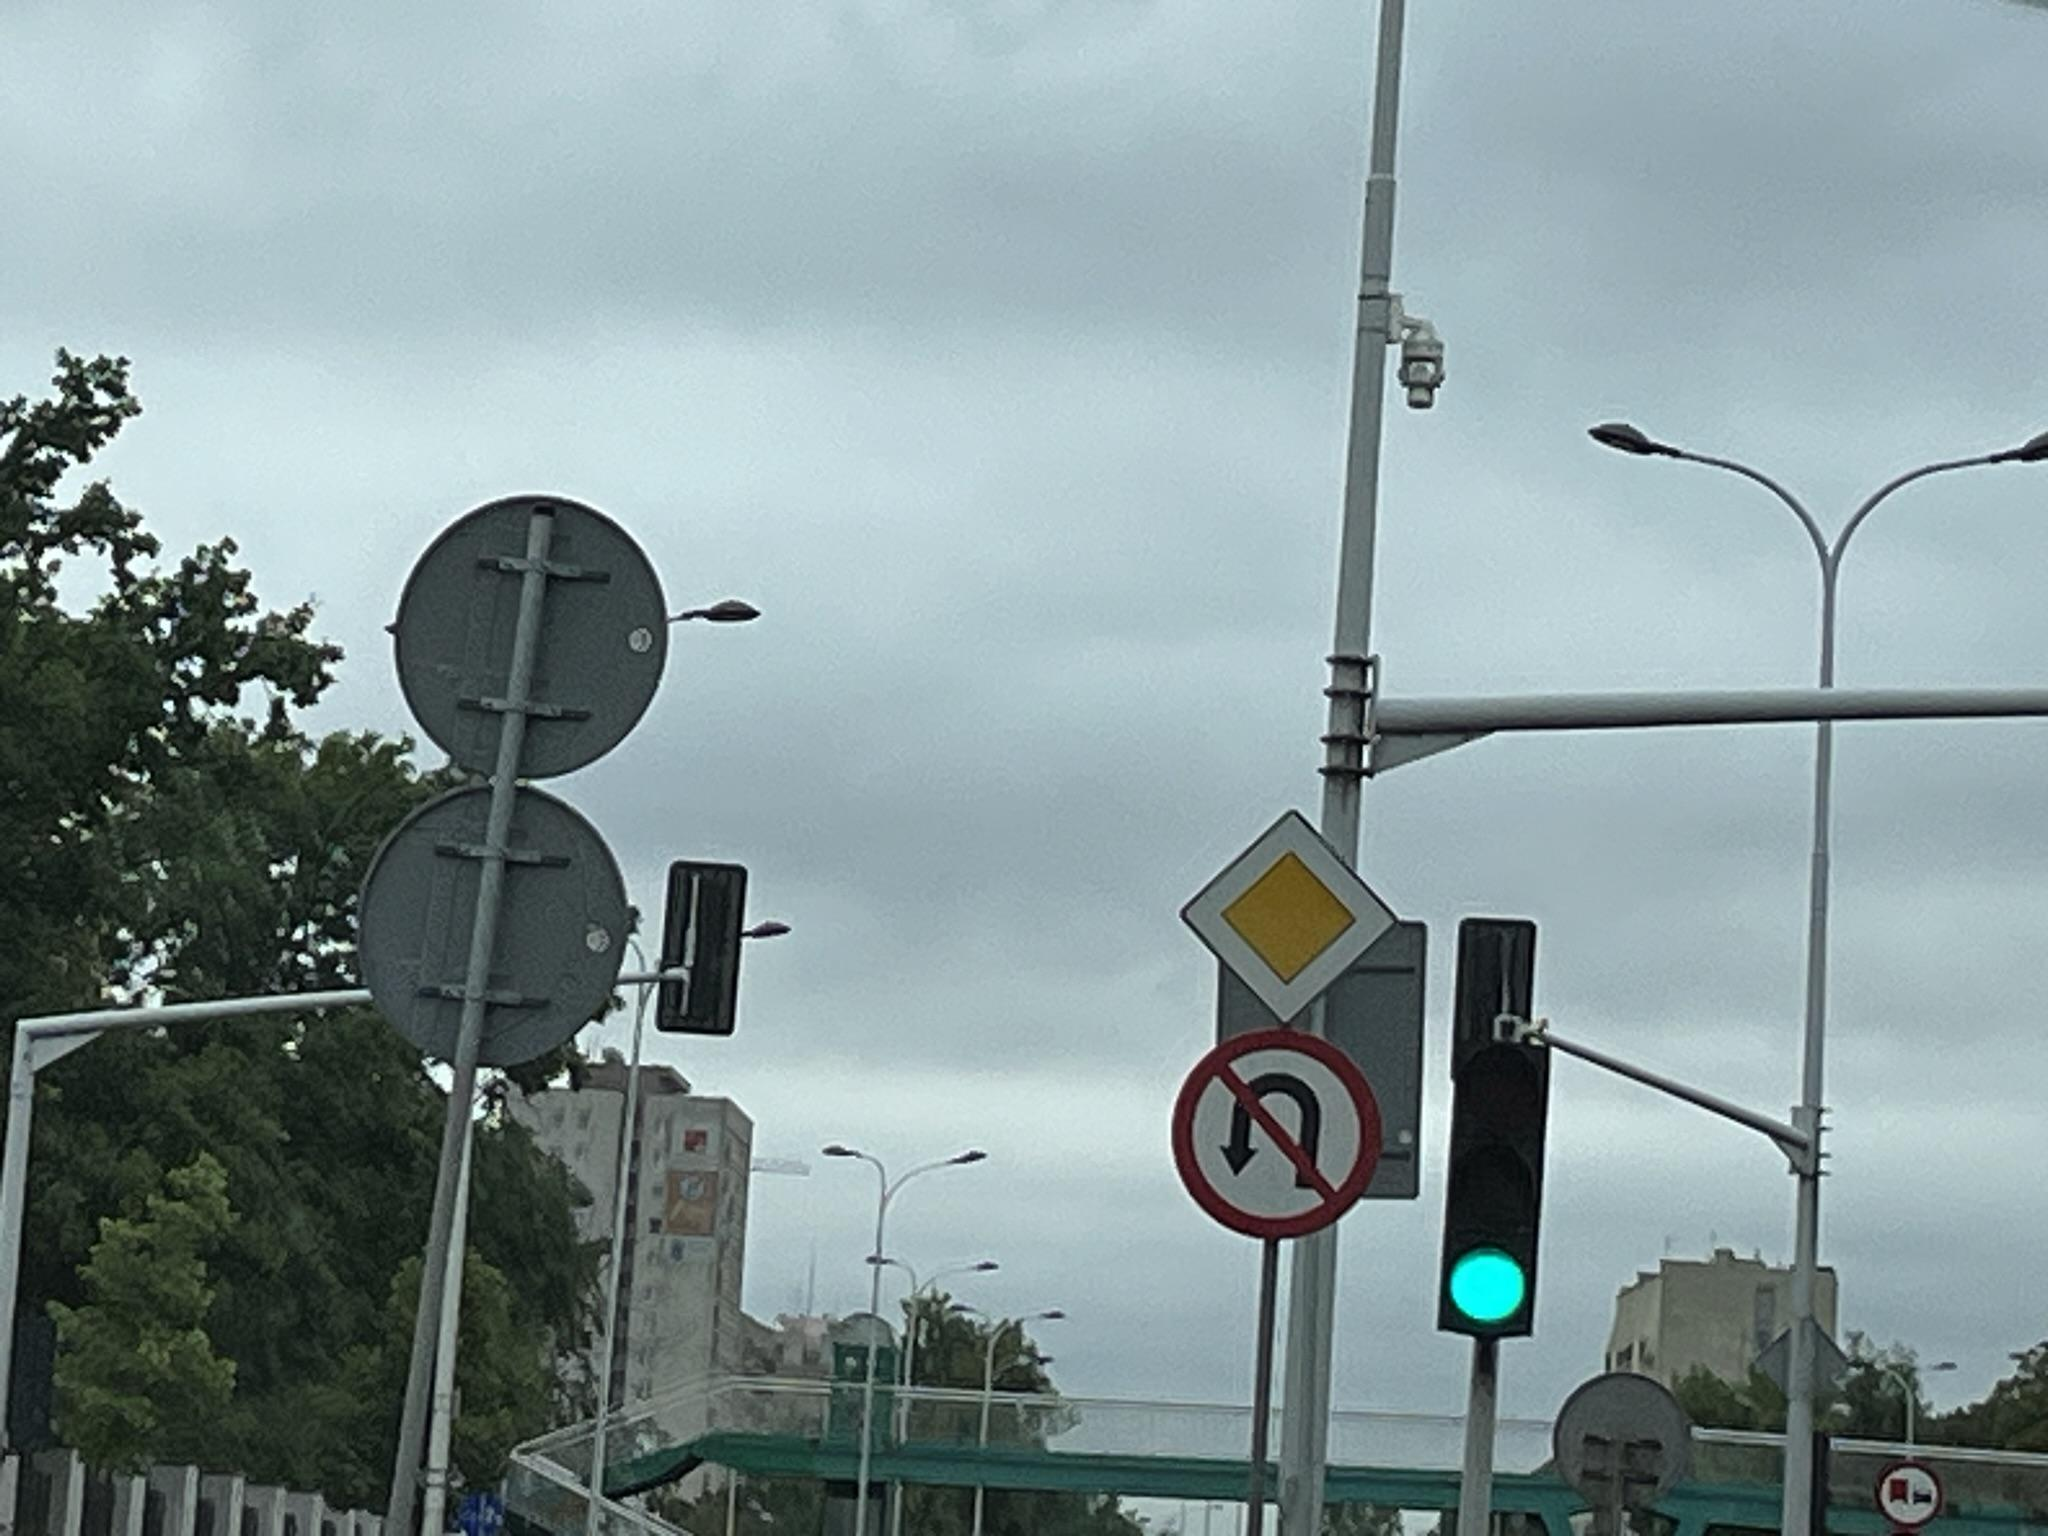information: (1176, 807, 1400, 1026)
prohibitory: (1171, 1026, 1385, 1242), (1874, 1463, 1945, 1528)
